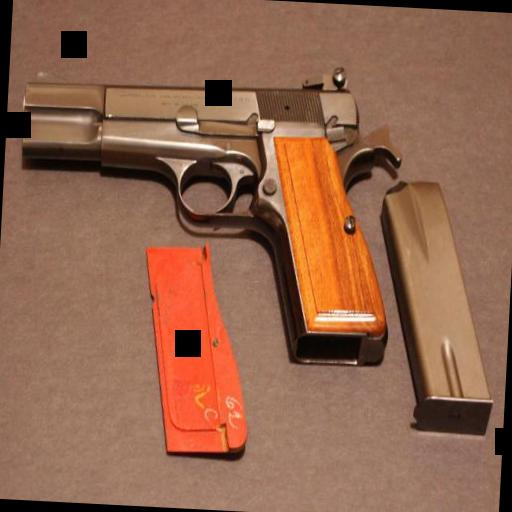Handgun: (2, 49, 406, 378)
